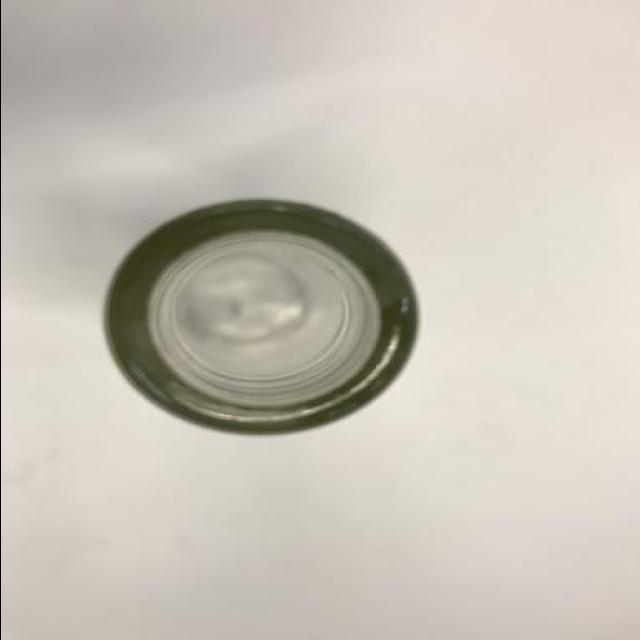glass: (106, 194, 426, 438)
